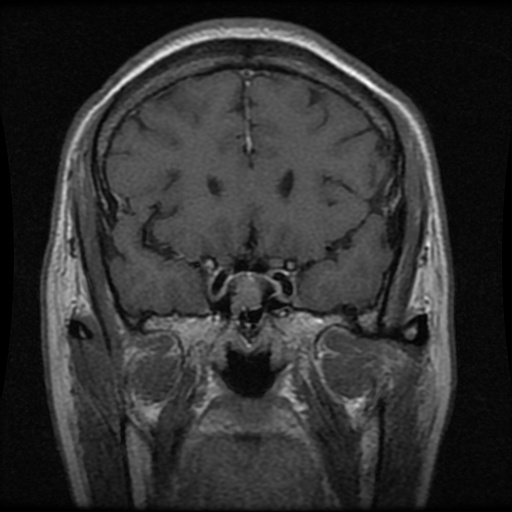pituitary: (234, 274, 261, 309)
